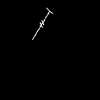treble_crochet: (35, 11, 51, 34)
